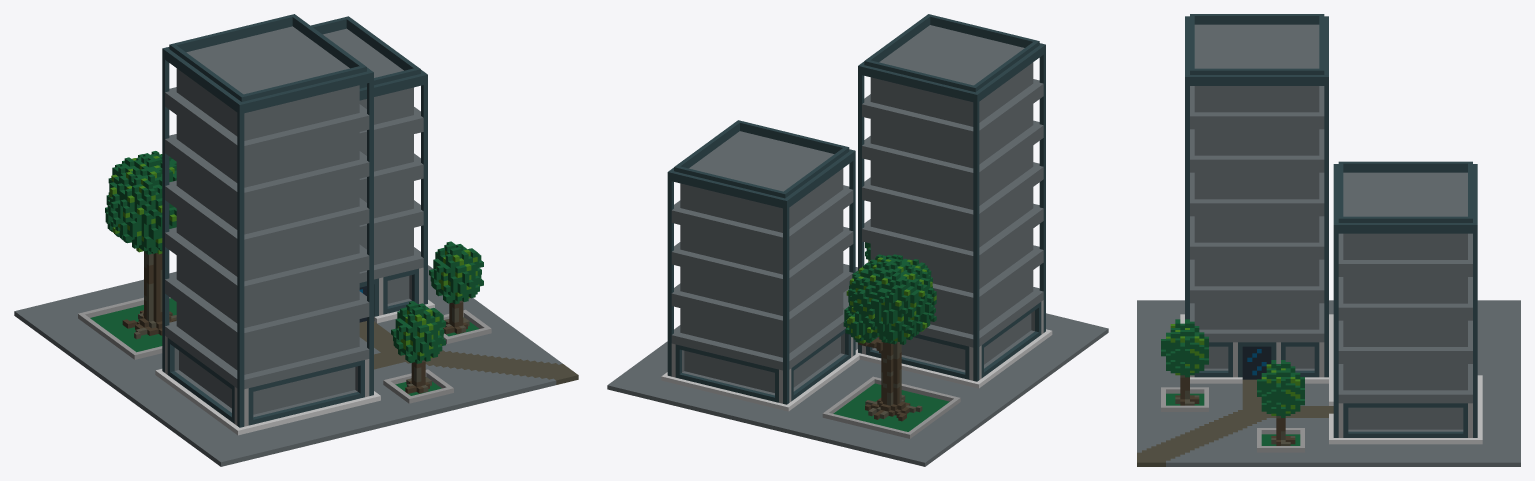
File: building_big_3_overtile.obj
3 views of the same model, side by side, from view 1: azimuth 30°, elevation 25°; view 2: azimuth 150°, elevation 25°; view 3: azimuth 270°, elevation 25° (orthographic). The views are drawn at different scales.
Bounding box in the file's own units: 8 × 7.2 × 8.
1 material, 1 textured.
